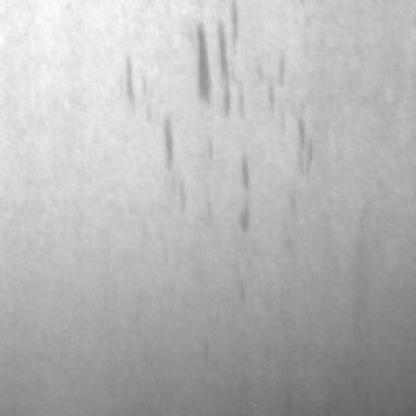inclusion: (189, 6, 254, 133), (116, 58, 179, 185), (229, 150, 264, 239)
